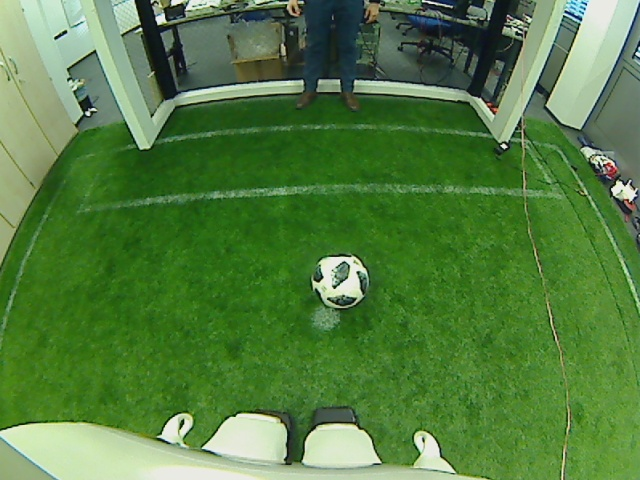ball: (308, 252, 372, 311)
